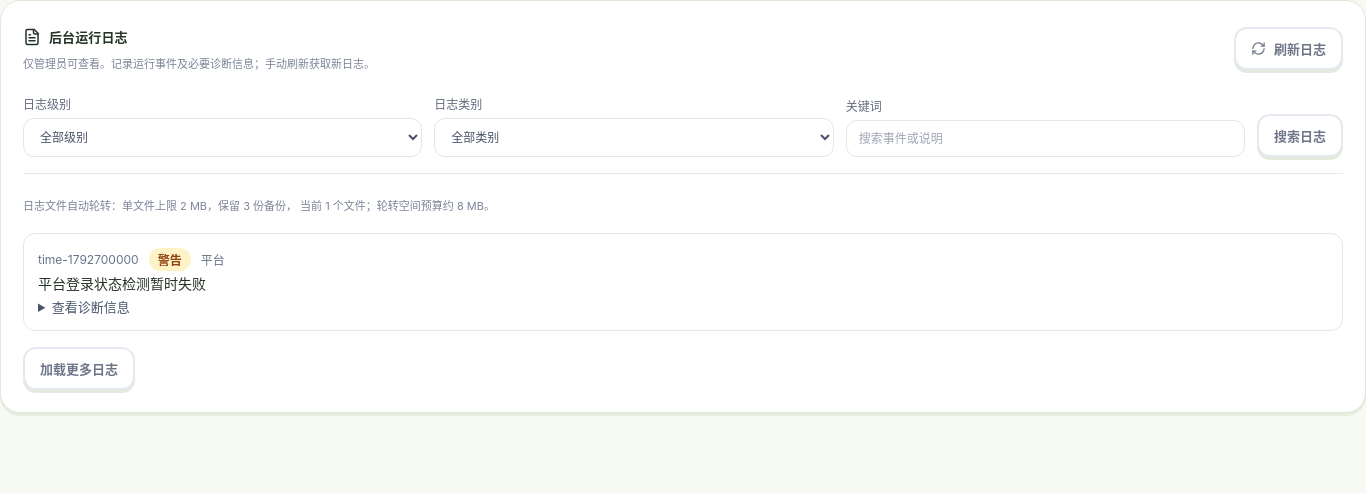
Test: marks preserved results as stale and does not page them after a failed new filter
Select "错误" in the dropdown labelled "日志级别" at point(223, 137), box x1=23 y1=118 x2=422 y2=157
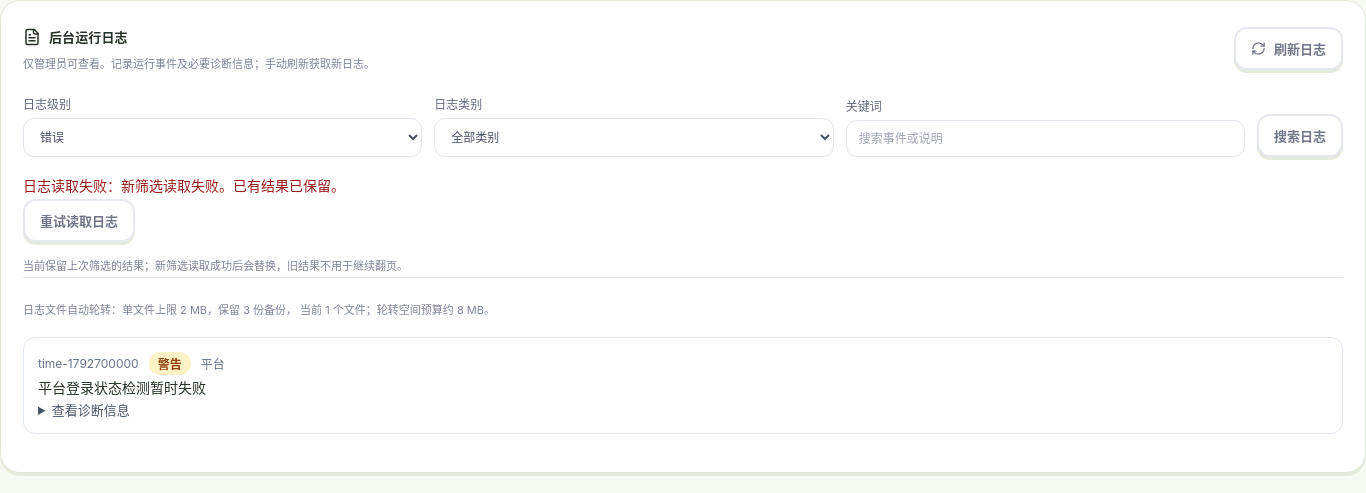
Expected: the text "平台登录状态检测暂时失败" is shown, x1=38 y1=379 x2=206 y2=396
Expected: the text "当前保留上次筛选的结果" is shown, x1=23 y1=259 x2=408 y2=273
Click the button "重试读取日志".
click(79, 220)  # box x1=23 y1=199 x2=135 y2=242
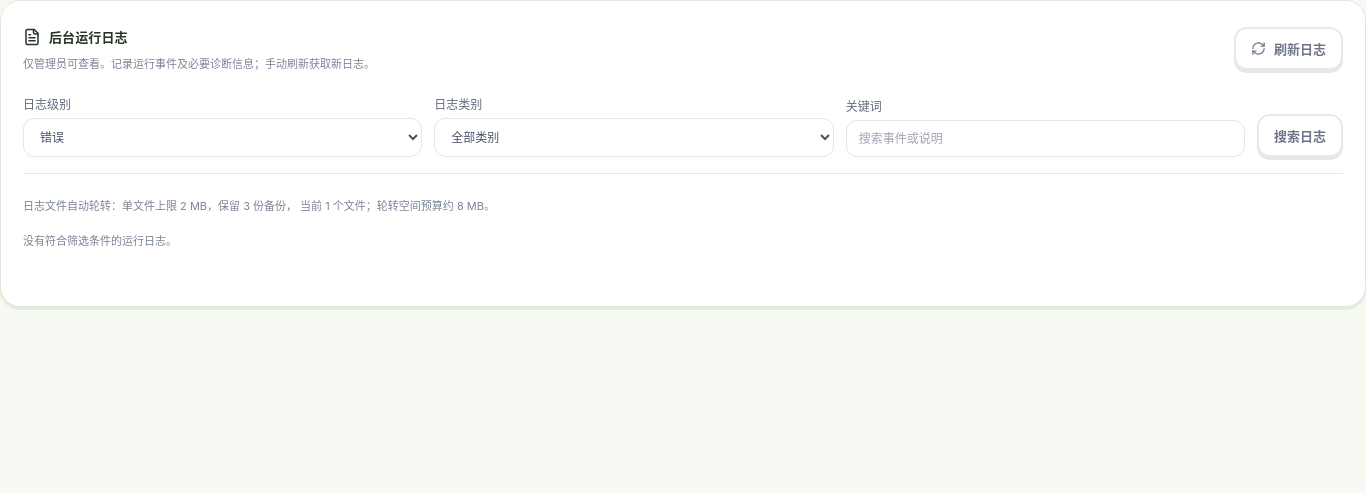
Expected: the text "没有符合筛选条件" is shown, x1=23 y1=234 x2=177 y2=248
